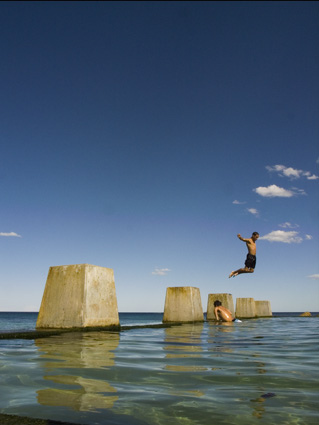person: (232, 234, 261, 280)
